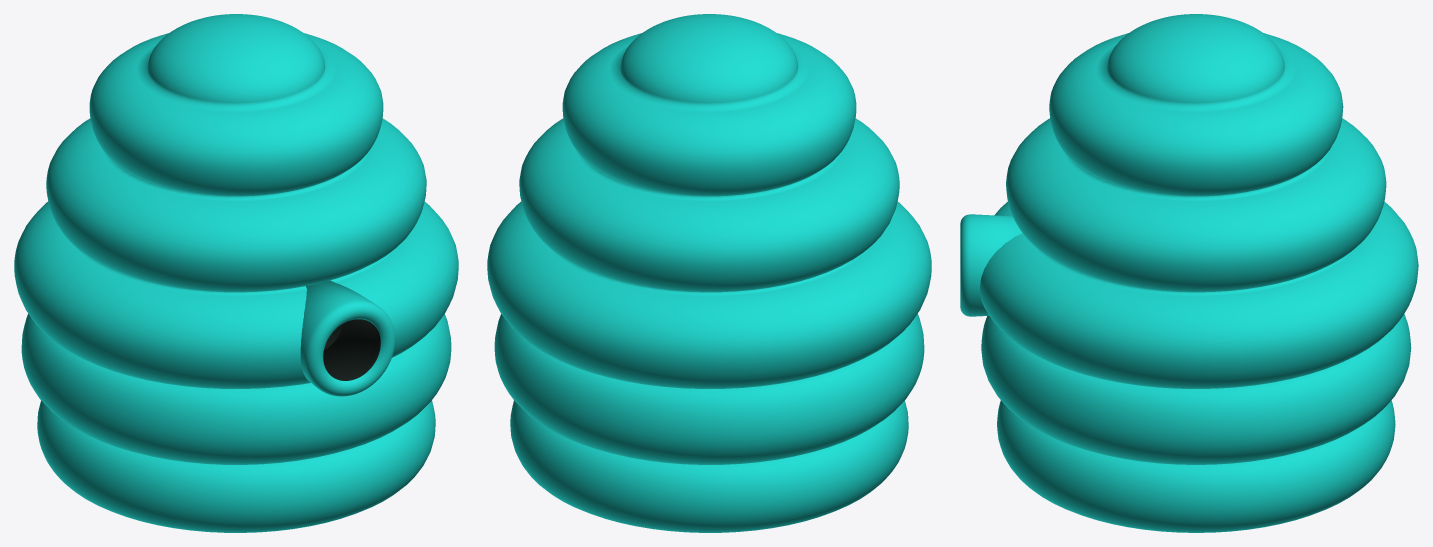
File: Small_Hive_Cyan.fbx
3 views of the same model, side by side, from view 1: azimuth 30°, elevation 25°; view 2: azimuth 150°, elevation 25°; view 3: azimuth 270°, elevation 25° (orthographic).
Visible parts, largest first — view 1: Small_Hive_Cyan_Body, Small_Hive_Cyan_Entrance_Collar; view 2: Small_Hive_Cyan_Body; view 3: Small_Hive_Cyan_Body, Small_Hive_Cyan_Entrance_Collar.
Boxes of the visible parts, x1,y1,x2,y2 form: Small_Hive_Cyan_Body: [14, 14, 458, 532]; Small_Hive_Cyan_Entrance_Collar: [300, 280, 395, 396]; Small_Hive_Cyan_Body: [487, 14, 931, 532]; Small_Hive_Cyan_Body: [980, 14, 1418, 532]; Small_Hive_Cyan_Entrance_Collar: [960, 214, 1021, 316].
Bounding box in the file's own units: 209 × 223 × 215.
